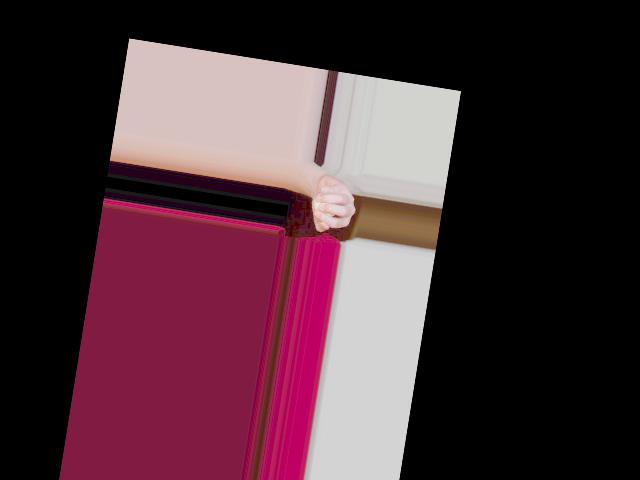egg: (311, 192, 338, 220)
